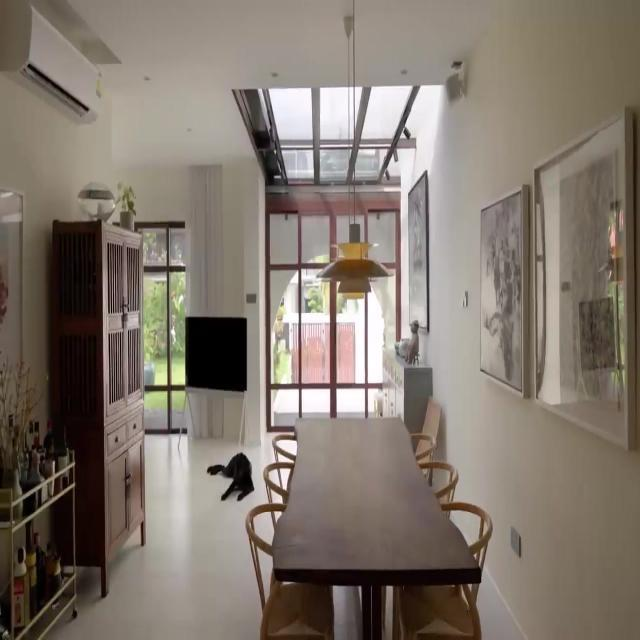obstacle: (270, 415, 482, 638), (49, 218, 146, 598), (0, 447, 78, 639)
